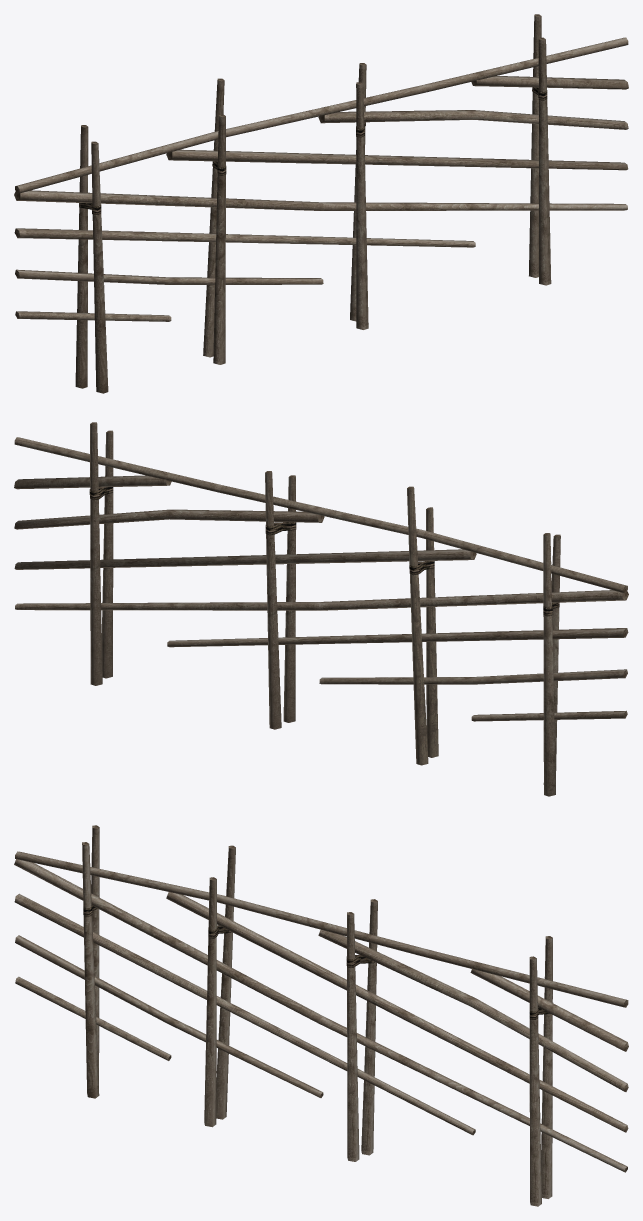
Rendered from Gardesgard.dae.
3 renders of one model, top to bottom at view 1: azimuth 30°, elevation 25°; view 2: azimuth 150°, elevation 25°; view 3: azimuth 330°, elevation 25°, orthographic.
Parts seen in each view (by area): view 1: Gardesgard; view 2: Gardesgard; view 3: Gardesgard.
Part boxes in pixels (x1,y1,x2,y2): Gardesgard: (14,14,628,393); Gardesgard: (14,422,628,796); Gardesgard: (14,825,628,1206).
Size of the model in its own units: 4.01 by 1.72 by 0.1884.
1 material, 1 textured.
